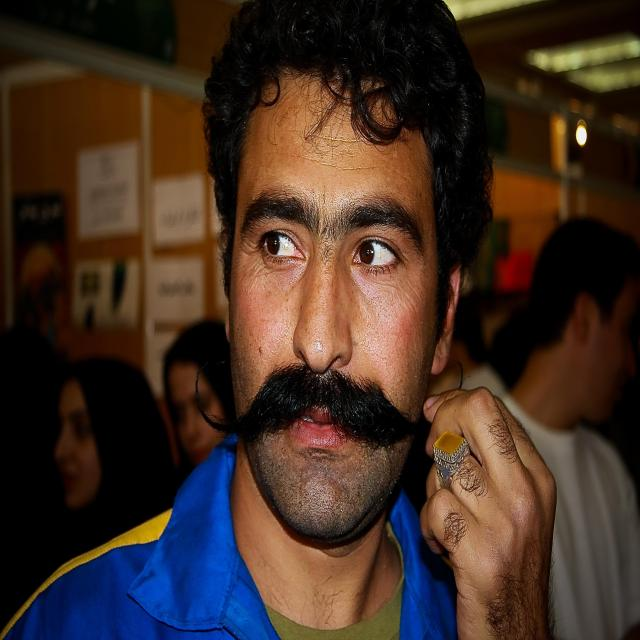no-glass: (256, 228, 396, 276)
